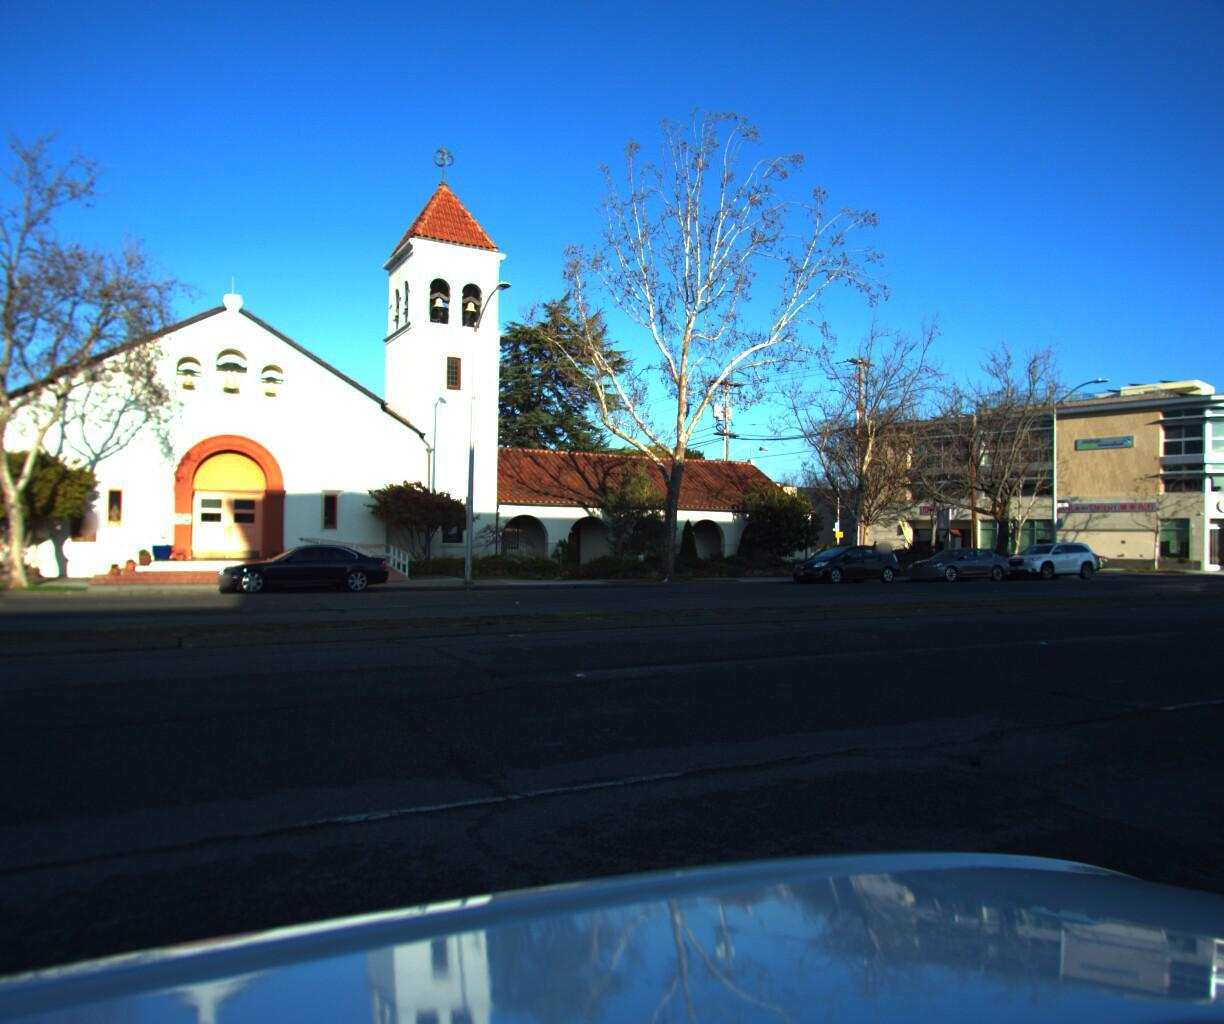car: (208, 540, 396, 599), (778, 538, 903, 584), (990, 531, 1100, 577), (896, 538, 1013, 581), (1028, 540, 1105, 567)
